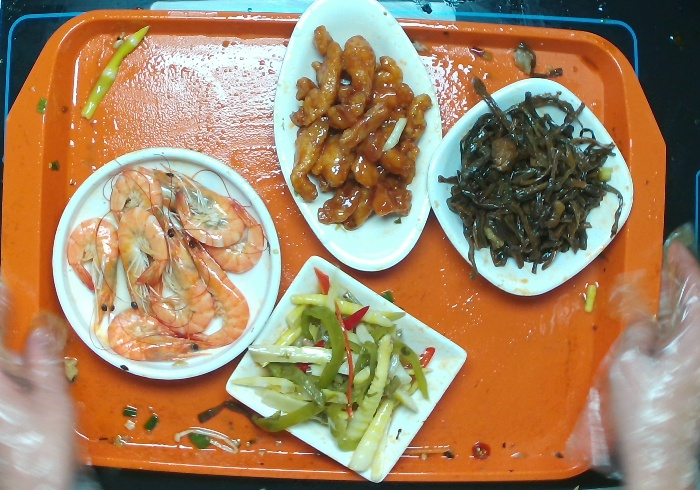HZYJPL-Si_Fang_Die: (220, 241, 472, 490)
HZYJPL-Si_Fang_Yuan_Die: (425, 74, 643, 307)
HZYJPL-Xiao_Yu_Die: (264, 1, 450, 277)
HZYJPL-Xiao_Yuan_Die: (43, 132, 287, 392)
